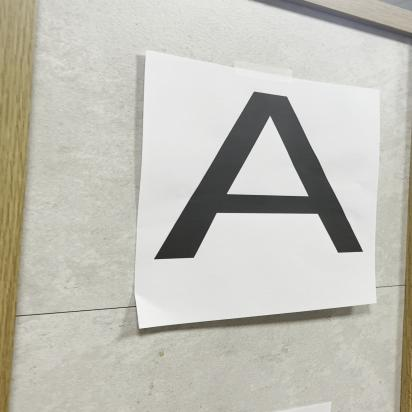seat: (146, 80, 376, 286)
